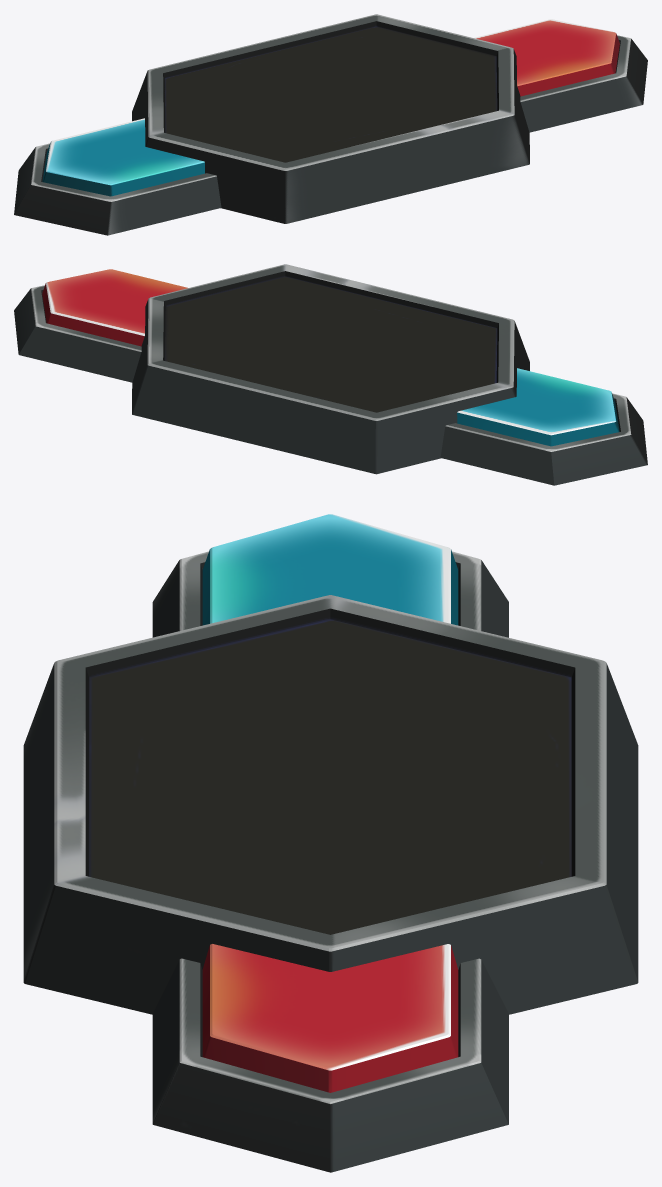
The model's file is filed.fbx.
3 renders of one model, top to bottom at view 1: azimuth 30°, elevation 25°; view 2: azimuth 150°, elevation 25°; view 3: azimuth 270°, elevation 25°, orthographic. The views are drawn at different scales.
Visible parts, largest first — view 1: 场地; view 2: 场地; view 3: 场地.
Boxes of the visible parts, bbox=[...] form: 场地: bbox=[14, 14, 647, 235]; 场地: bbox=[14, 264, 647, 485]; 场地: bbox=[23, 514, 638, 1172].
Bounding box in the file's own units: 349 × 24.33 × 146.
Materials: 1 (1 with a texture image).
